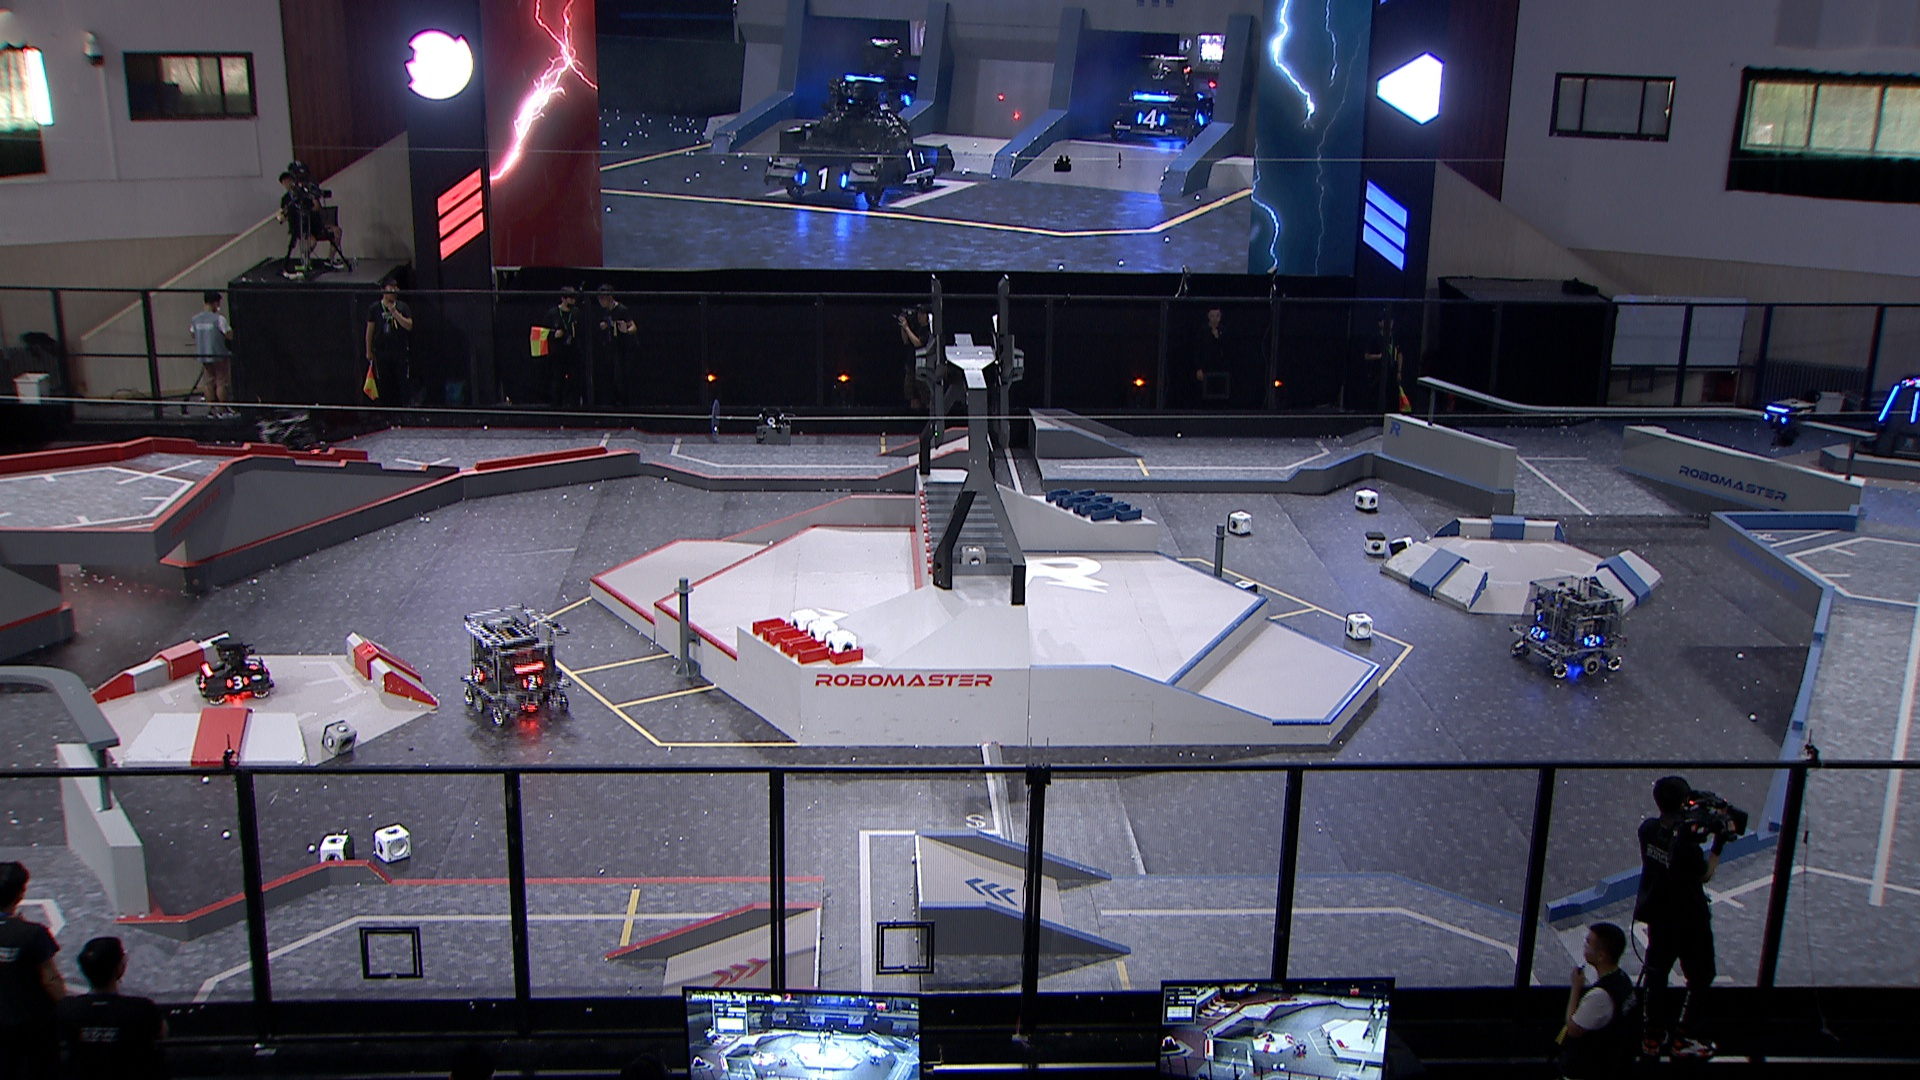armor: (1878, 385, 1902, 423), (225, 674, 253, 692), (520, 673, 545, 690), (1759, 410, 1788, 425), (1908, 392, 1920, 425), (471, 666, 487, 687), (1528, 624, 1547, 641), (243, 657, 262, 671), (1582, 633, 1602, 647), (195, 674, 210, 692)
base: (1847, 372, 1920, 465)
car: (458, 600, 579, 731), (1510, 572, 1631, 680), (256, 409, 338, 485), (191, 636, 276, 705)
ignore: (765, 73, 951, 211), (1105, 50, 1221, 149), (822, 40, 922, 120), (1899, 378, 1920, 390)
watcher: (1751, 396, 1815, 451)
